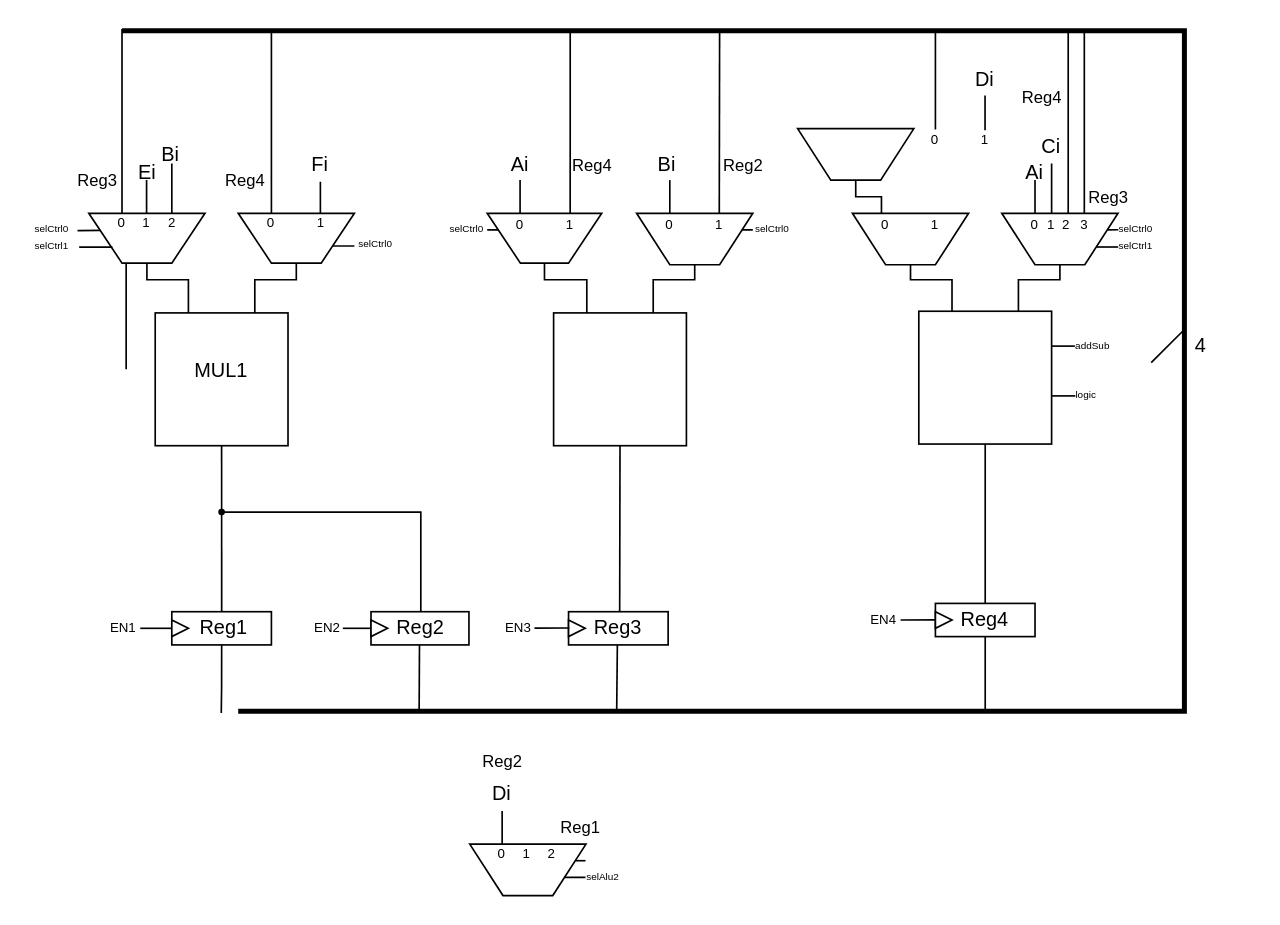
This 1280x925 diagram has some shape labels left out. The centre of each missing label's shape, as x and y in pixels:
ALU: the point at 984,377
MUL2: the point at 619,378
